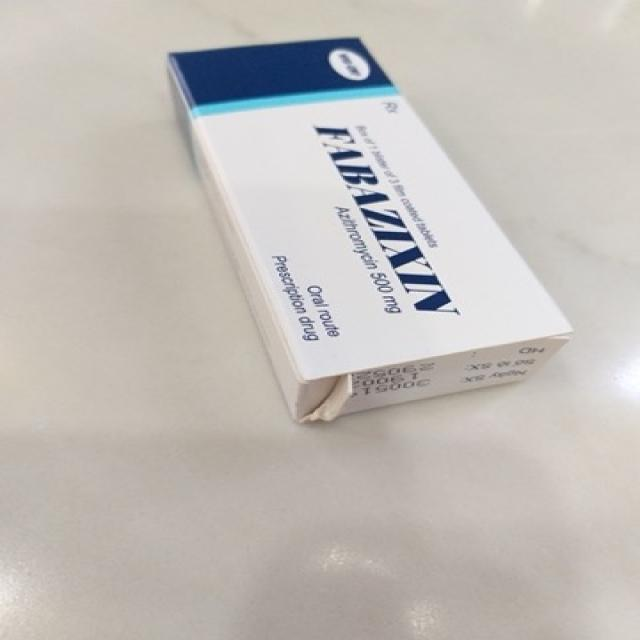PaperCardboard: (167, 33, 578, 427)
